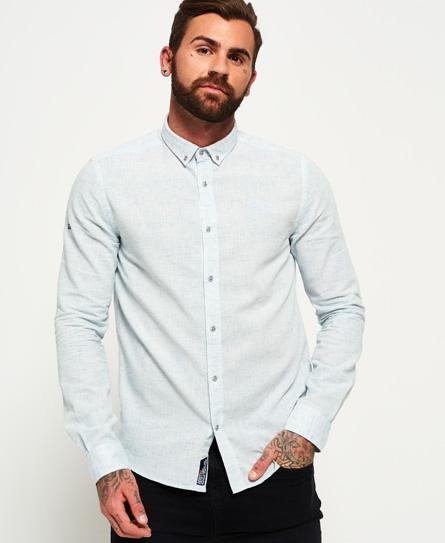teeshirt: (49, 116, 370, 457)
